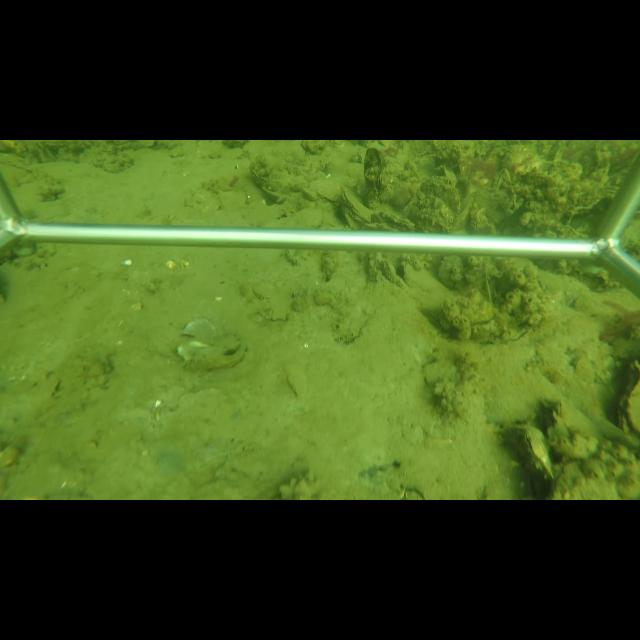Oyster-Closed: (513, 422, 556, 480), (401, 258, 450, 292), (339, 186, 376, 222), (450, 192, 474, 234), (382, 258, 410, 292), (381, 212, 417, 231), (314, 187, 339, 204), (285, 250, 299, 268)
Oyster-Open: (178, 341, 248, 374), (248, 162, 270, 188)
